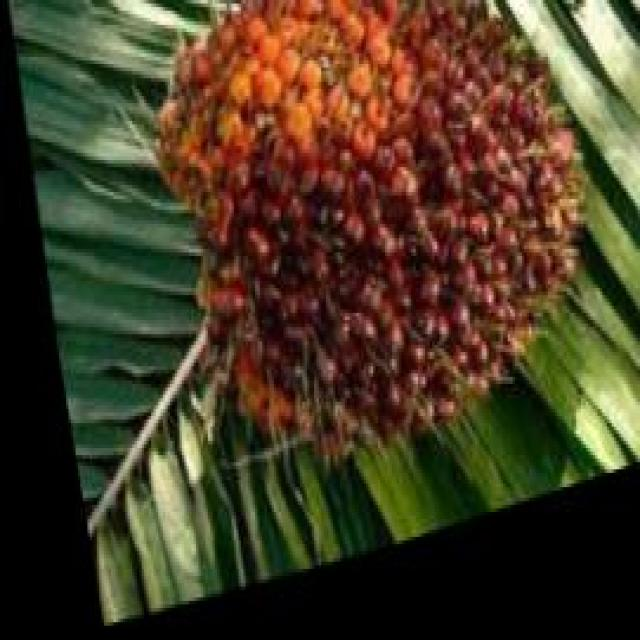Ripefruit: (126, 0, 608, 530)
